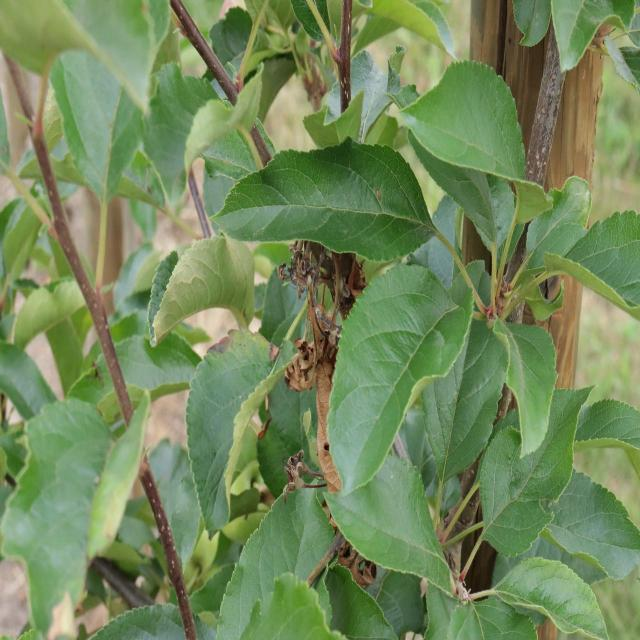-FireBlight-: (276, 250, 339, 494)
